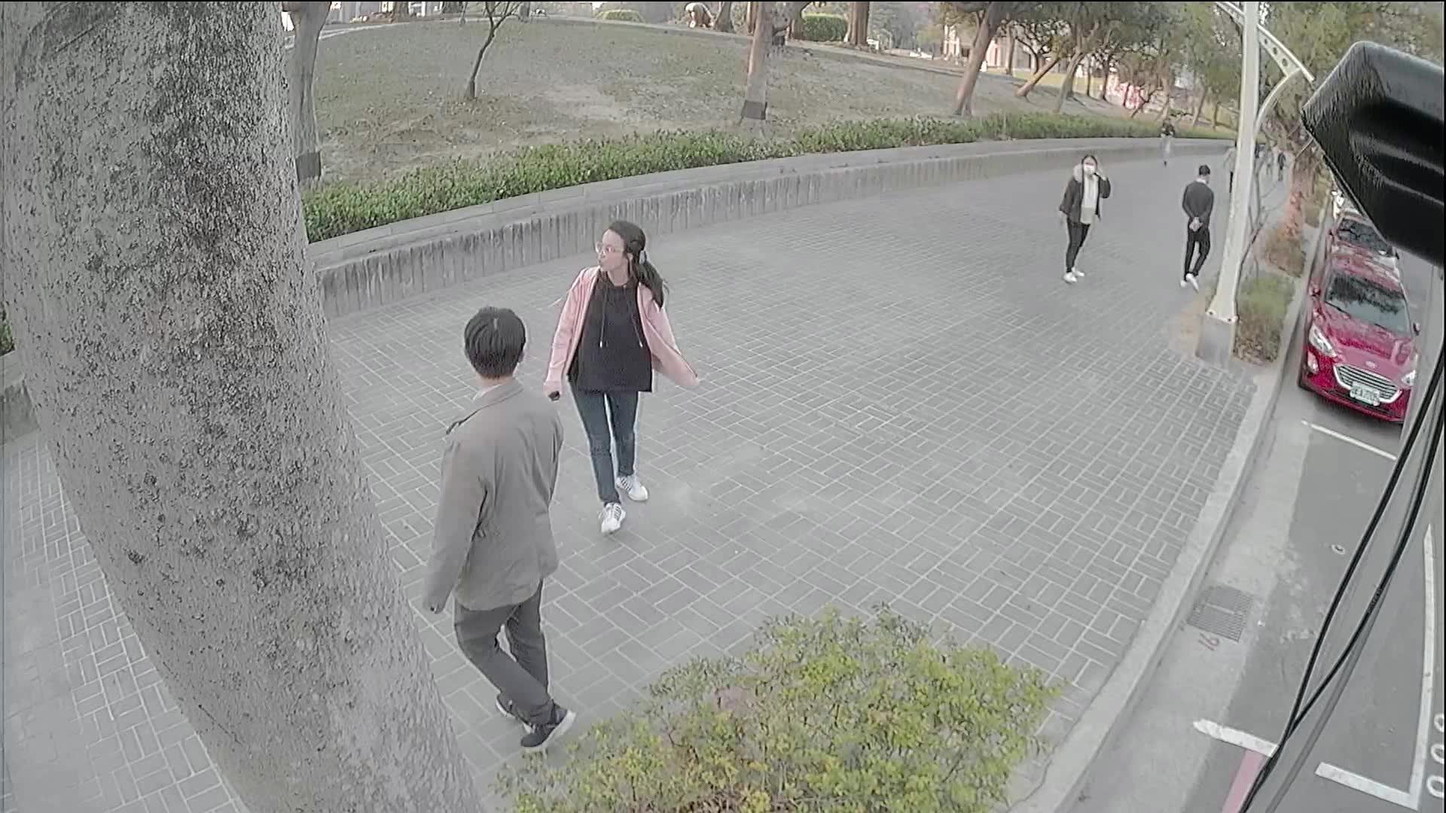person: (426, 305, 573, 747), (554, 218, 688, 531), (1054, 151, 1104, 279), (1178, 164, 1213, 285), (1158, 117, 1178, 160)
